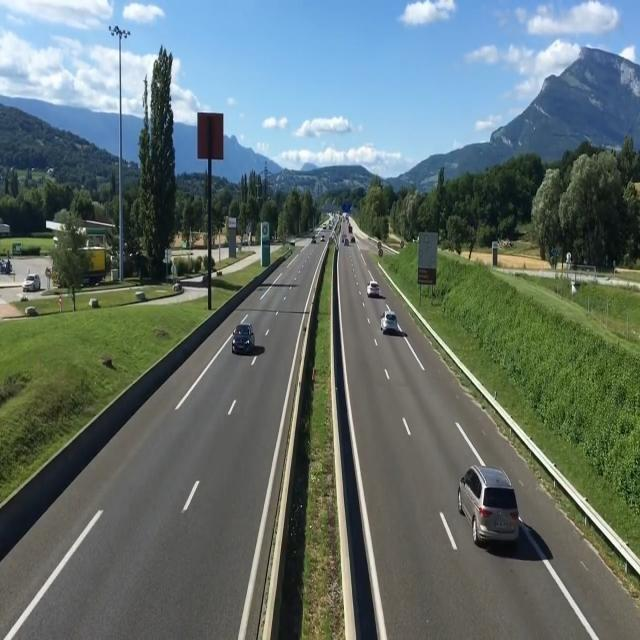Car: (450, 457, 533, 551), (226, 317, 258, 356), (376, 309, 402, 334), (362, 276, 388, 299), (351, 236, 358, 246), (320, 233, 326, 244), (311, 236, 317, 243)
